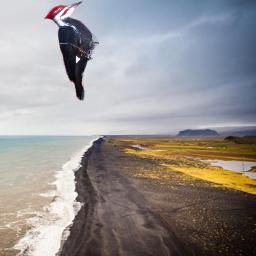Woodpecker: (44, 1, 99, 101)
